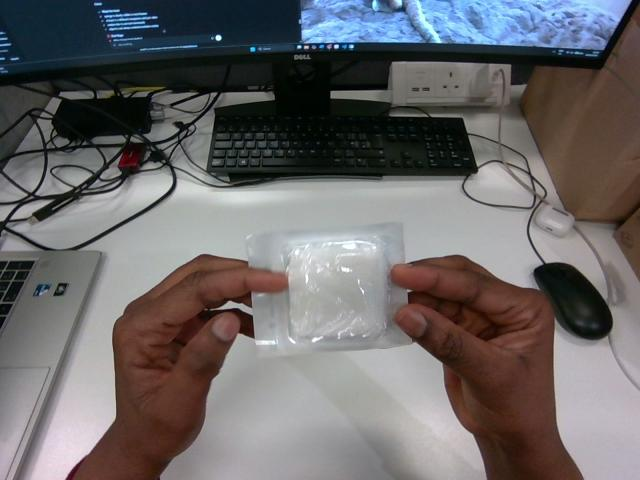gauze: (247, 223, 410, 355)
